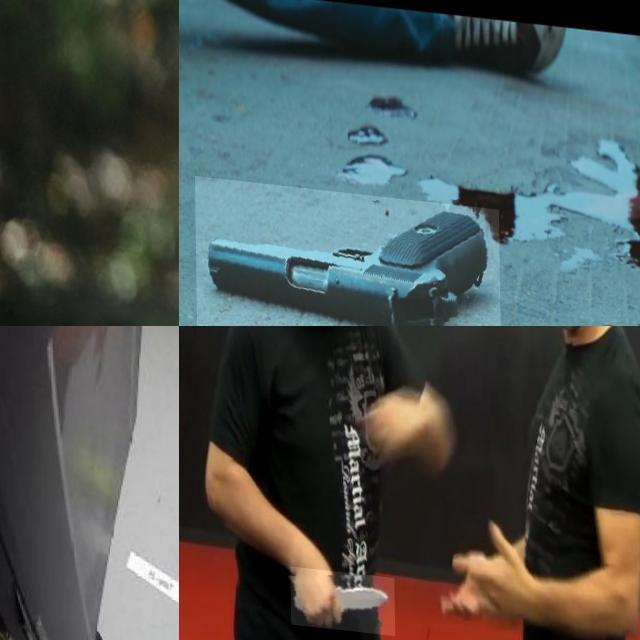-: (289, 563, 394, 630)
gun-knife-thesis - v11 Yolov5 augmented: (193, 171, 500, 326)
